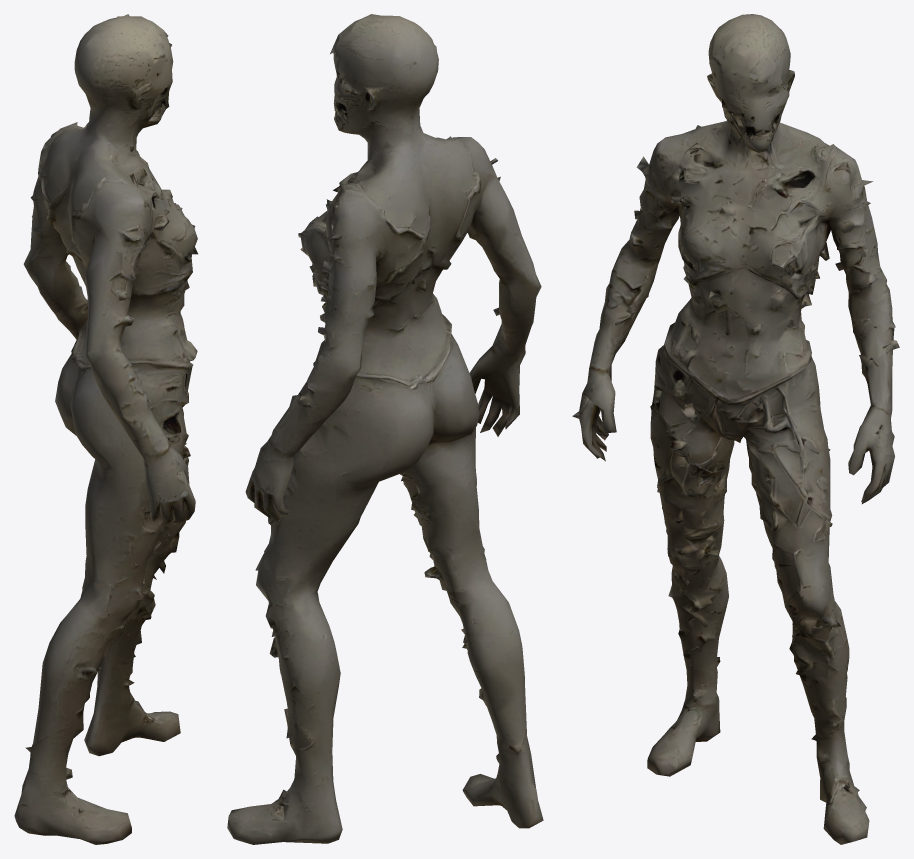
File: mannequin_c.glb
3 renders of one model, left to right at view 1: azimuth 30°, elevation 25°; view 2: azimuth 150°, elevation 25°; view 3: azimuth 270°, elevation 25°, orthographic. The views are drawn at different scales.
Parts seen in each view (by area): view 1: tripo_node_b25bc39f-cbbd-471e-b362-f660550c5afa; view 2: tripo_node_b25bc39f-cbbd-471e-b362-f660550c5afa; view 3: tripo_node_b25bc39f-cbbd-471e-b362-f660550c5afa.
Boxes of the visible parts, x1=… form: tripo_node_b25bc39f-cbbd-471e-b362-f660550c5afa: x1=14, y1=14, x2=197, y2=844; tripo_node_b25bc39f-cbbd-471e-b362-f660550c5afa: x1=227, y1=14, x2=543, y2=844; tripo_node_b25bc39f-cbbd-471e-b362-f660550c5afa: x1=572, y1=14, x2=899, y2=844.
Size of the model in its own units: 0.3112 by 1 by 0.3824.
Materials: 1 (1 with a texture image).
